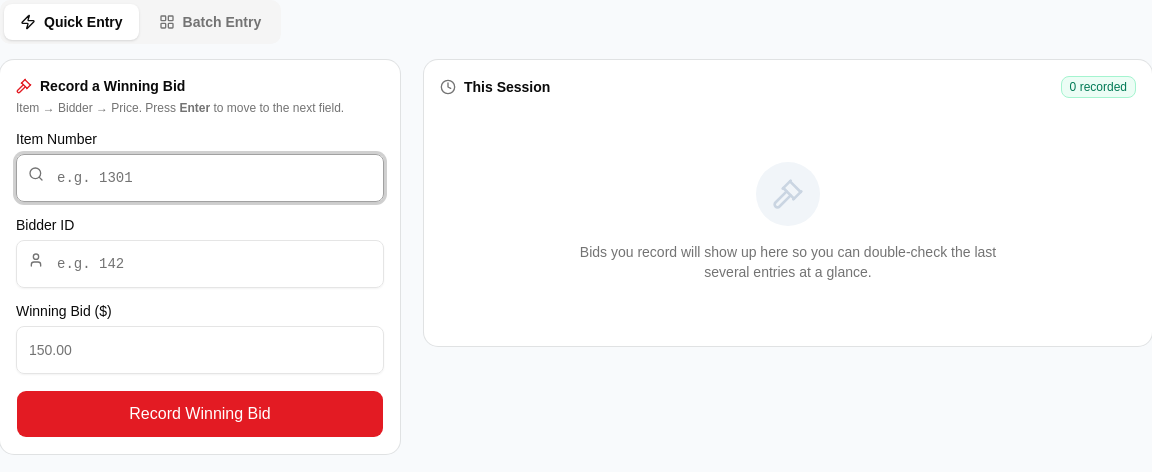
Test: BidEntry › switches to Batch Entry mode and shows the grid
Click the button "Batch Entry": (210, 22) [143, 4, 277, 40]
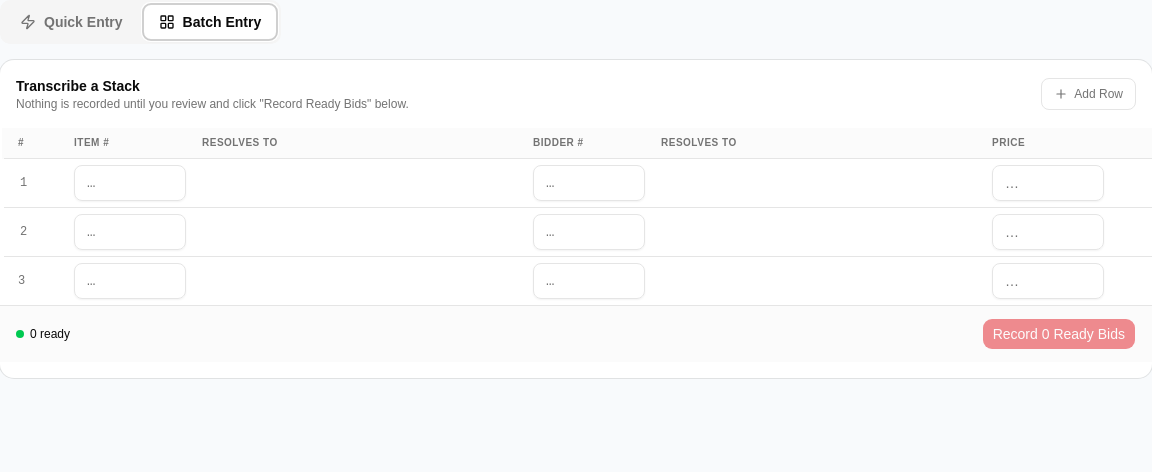
expect the field with placeholder "e.g. 1301" is not shown: met
expect the text "Transcribe a Stack" is shown: met, box [16, 78, 140, 94]
